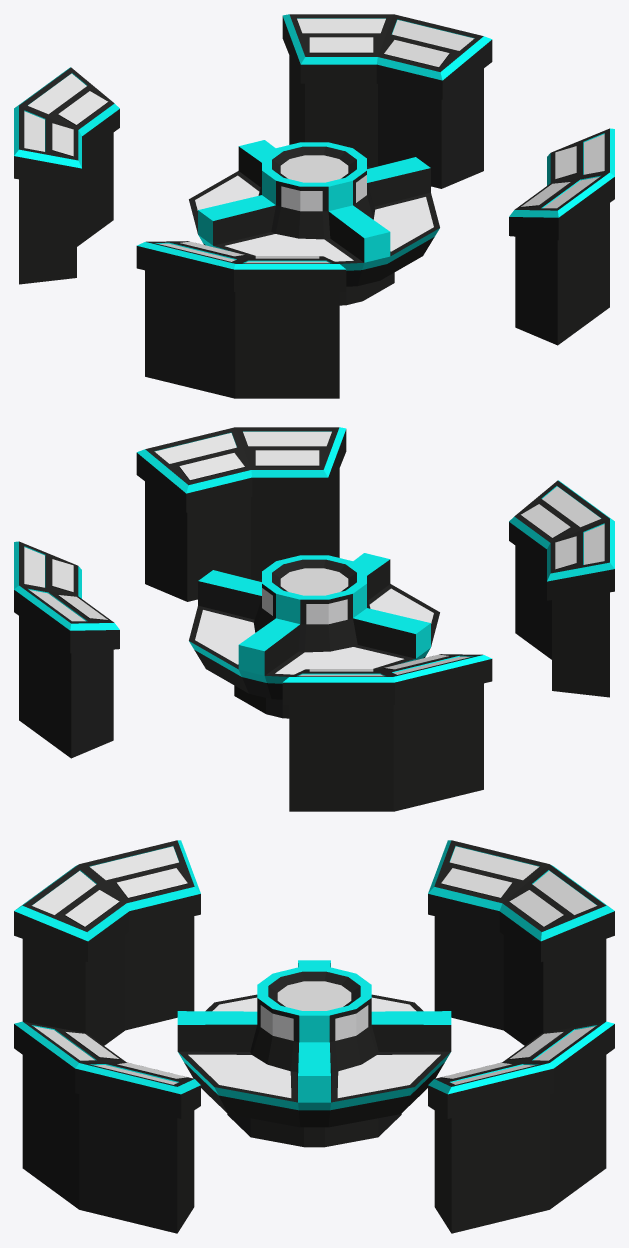
The model's file is Hibernation_Consloe.fbx.
3 renders of one model, top to bottom at view 1: azimuth 30°, elevation 25°; view 2: azimuth 150°, elevation 25°; view 3: azimuth 270°, elevation 25°, orthographic. The views are drawn at different scales.
Parts seen in each view (by area): view 1: Hibernation_Console; view 2: Hibernation_Console; view 3: Hibernation_Console.
Boxes of the visible parts, left/top/right/bottom form: Hibernation_Console: left=14, top=14, right=614, bottom=398; Hibernation_Console: left=14, top=427, right=614, bottom=811; Hibernation_Console: left=14, top=840, right=614, bottom=1233.
Bounding box in the file's own units: 8.33 × 8.33 × 2.25.
